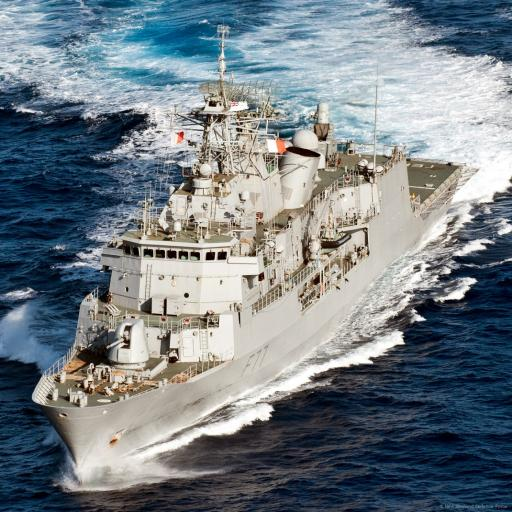Fragata: (21, 24, 487, 492)
